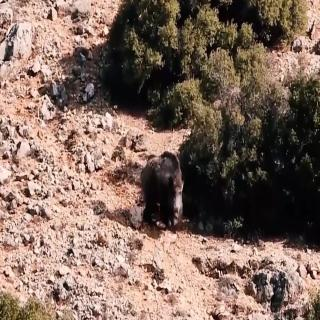Pig: (141, 140, 190, 228)
